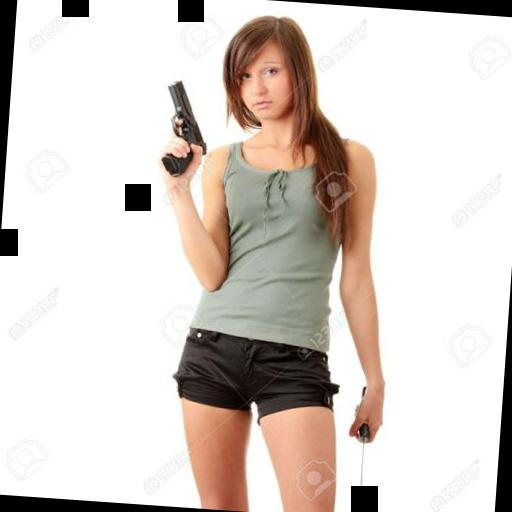Handgun: (148, 74, 214, 174)
